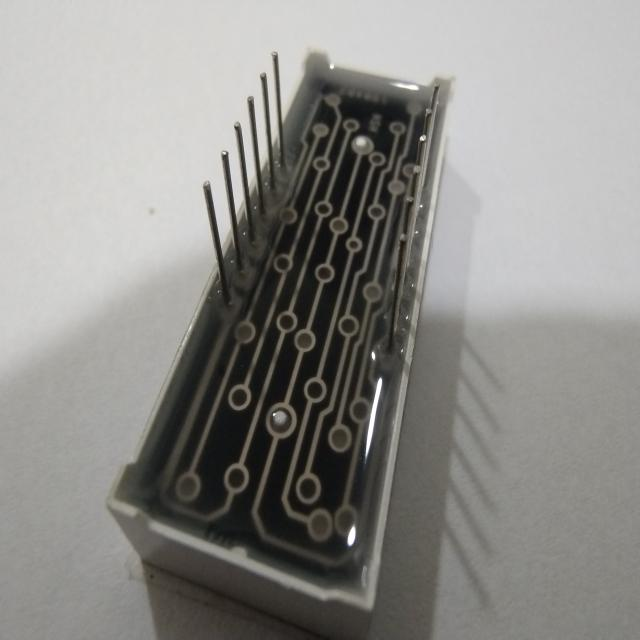7_segments_4_digits: (95, 36, 468, 640)
